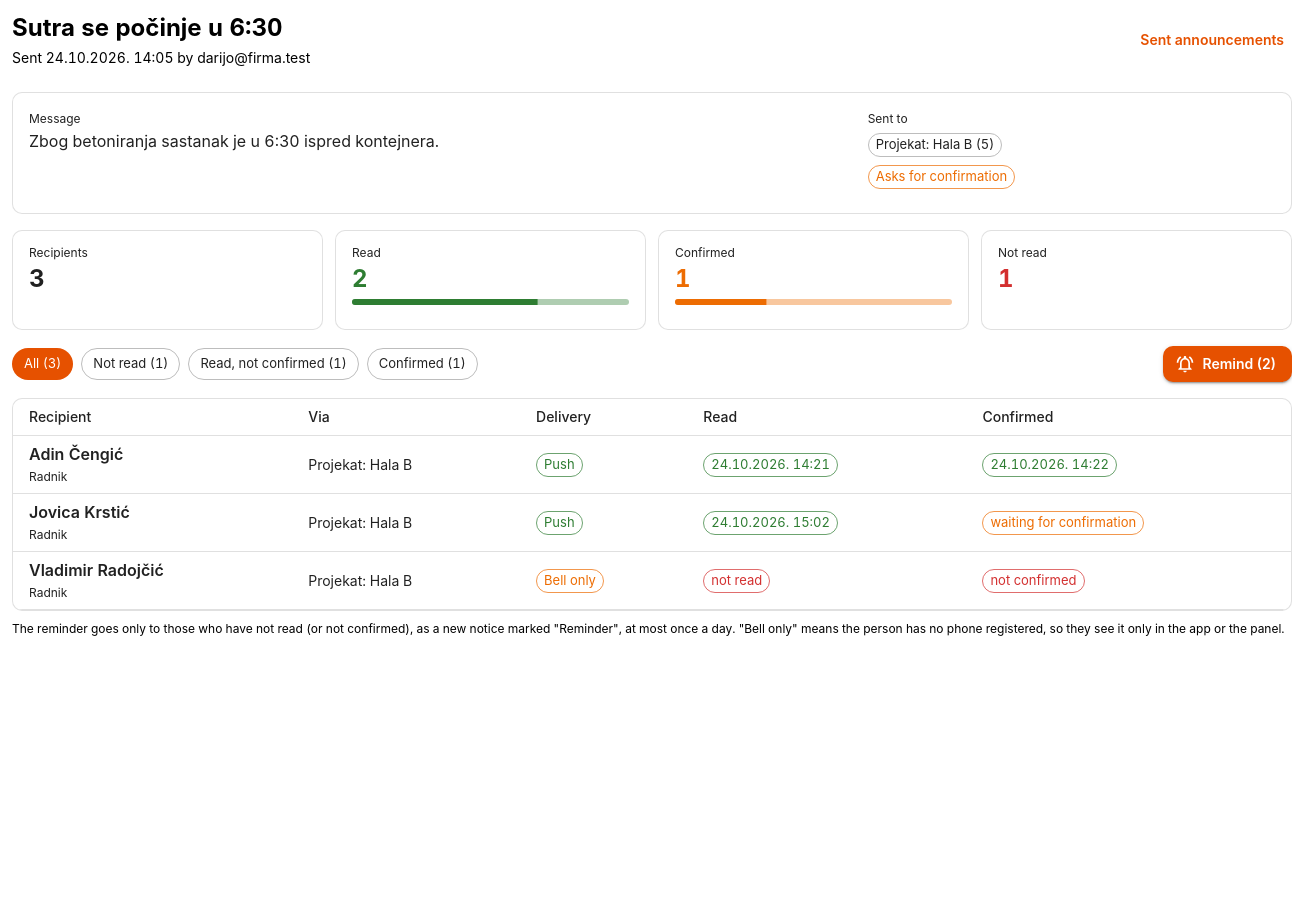
Test: BroadcastDetailPage › narrows to those who have not read
The image size is (1304, 912).
Check: the text "Adin Čengić" is shown, box x1=29 y1=444 x2=123 y2=464
Click the button "Not read (1)" at point(131, 364), box x1=81 y1=348 x2=180 y2=380
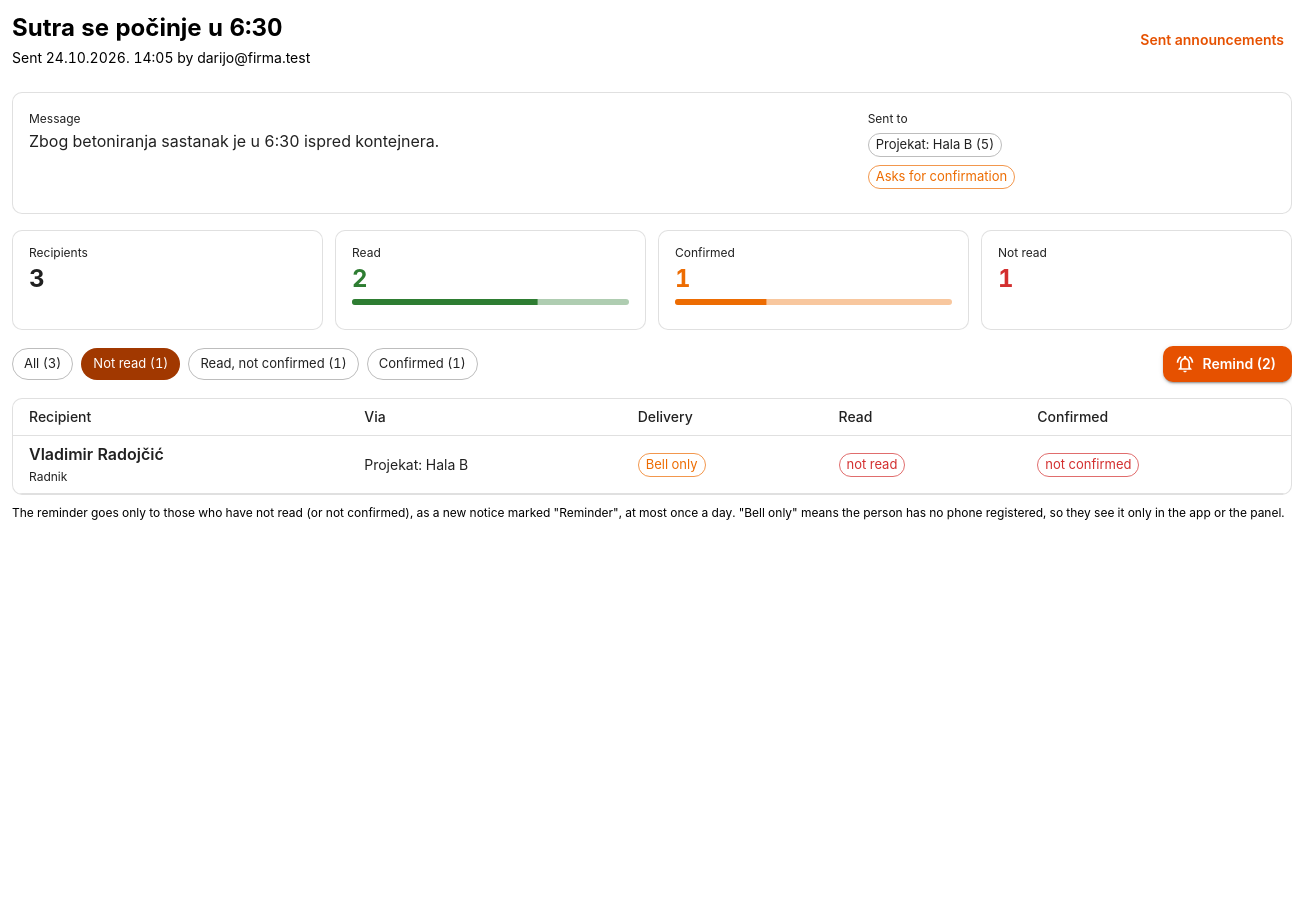
Check: the text "Vladimir Radojčić" is shown, box x1=29 y1=444 x2=164 y2=464
Check: the text "Adin Čengić" is gone
